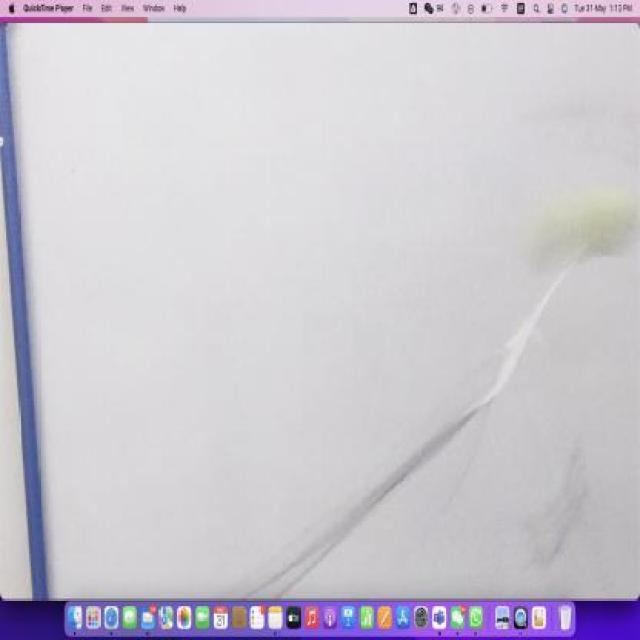baseball: (528, 206, 637, 242)
